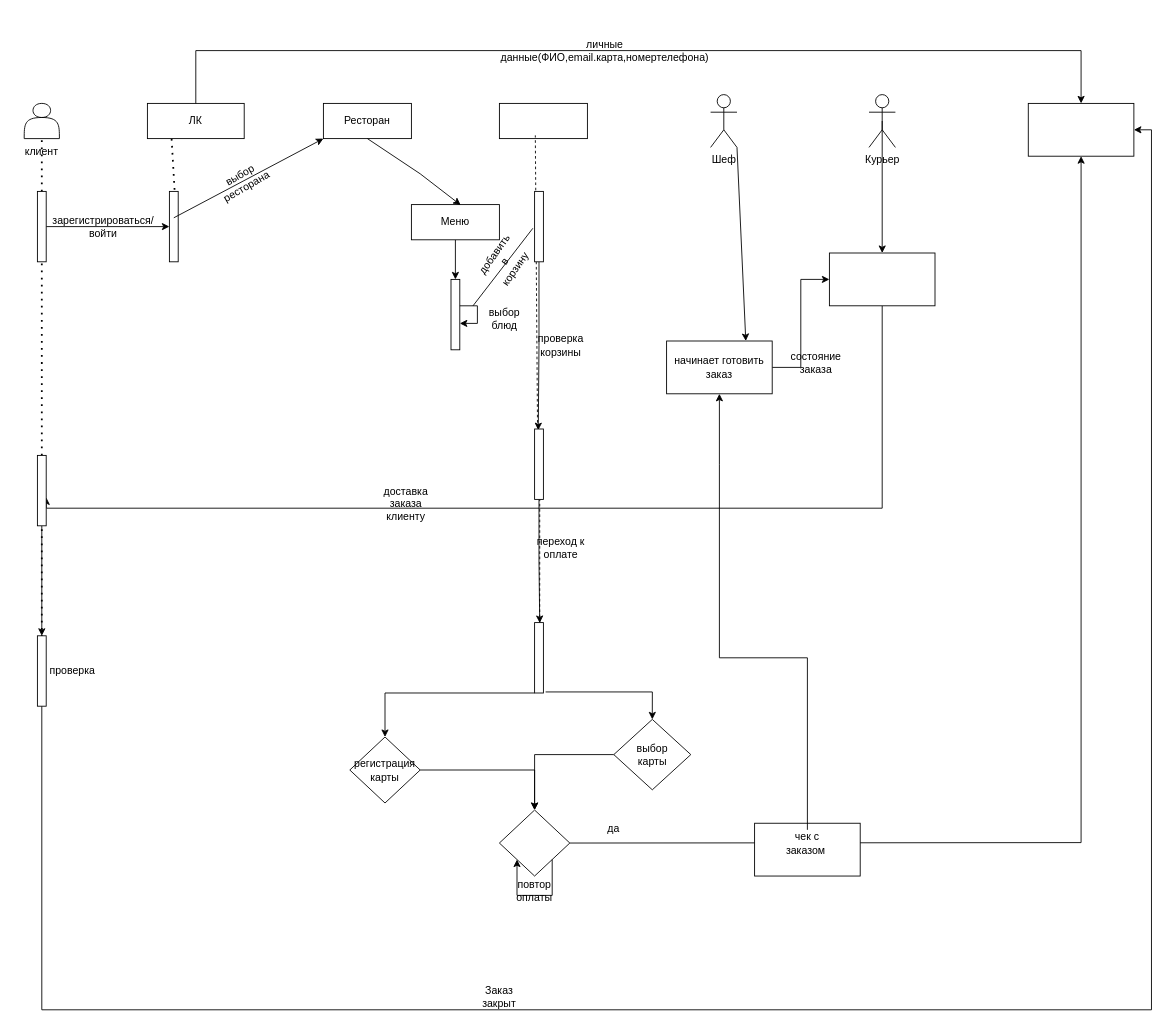
Some shapes in this 1174 by 1032 pixel diagram are drawn without their labels. The shapes that lost their labels are listed below. From the top down, each one's box as (x1, y1, x2, y2) in pixels, then its label:
(499, 103, 587, 139): Корзина
(1027, 103, 1134, 156): База данных
(829, 252, 935, 306): передача курьеру
(499, 809, 570, 876): оплата прошла?
